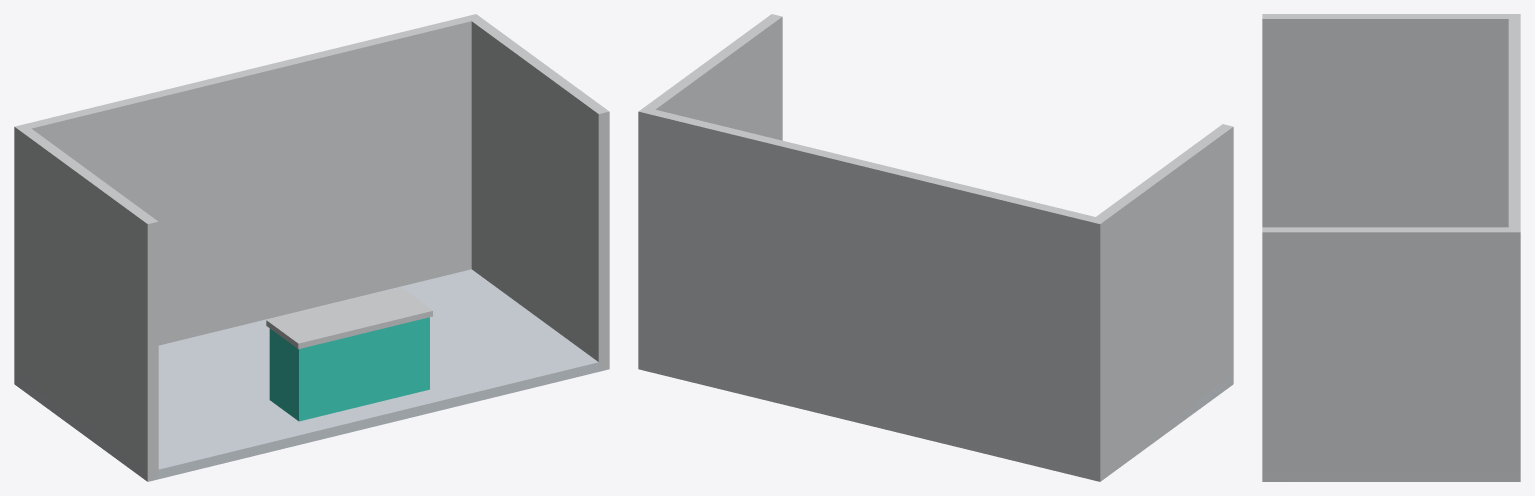
3 renders of one model, left to right at view 1: azimuth 30°, elevation 25°; view 2: azimuth 150°, elevation 25°; view 3: azimuth 270°, elevation 25°, orthographic. The views are drawn at different scales.
Visible parts, largest first — view 1: Exhibition Booth Concept; view 2: Exhibition Booth Concept; view 3: Exhibition Booth Concept.
Part boxes in pixels (<box>): Exhibition Booth Concept: <box>14,14,609,481</box>; Exhibition Booth Concept: <box>638,14,1233,481</box>; Exhibition Booth Concept: <box>1262,14,1520,481</box>.
Bounding box in the file's own units: 6 × 3.2 × 3.
